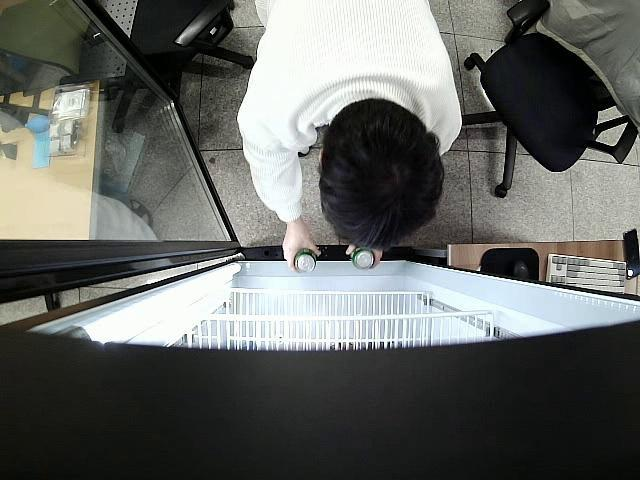12_chilsungCider: (351, 246, 375, 270), (294, 248, 317, 272)
